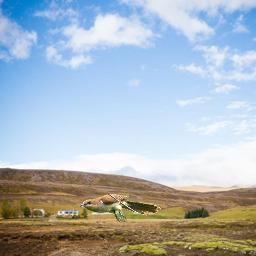Cuckoo: (79, 194, 161, 223)
